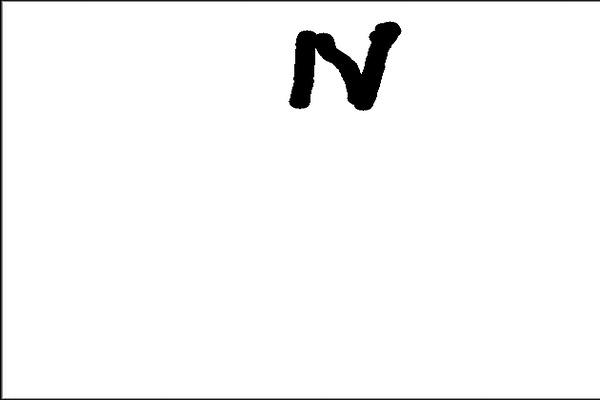N: (277, 12, 408, 114)
